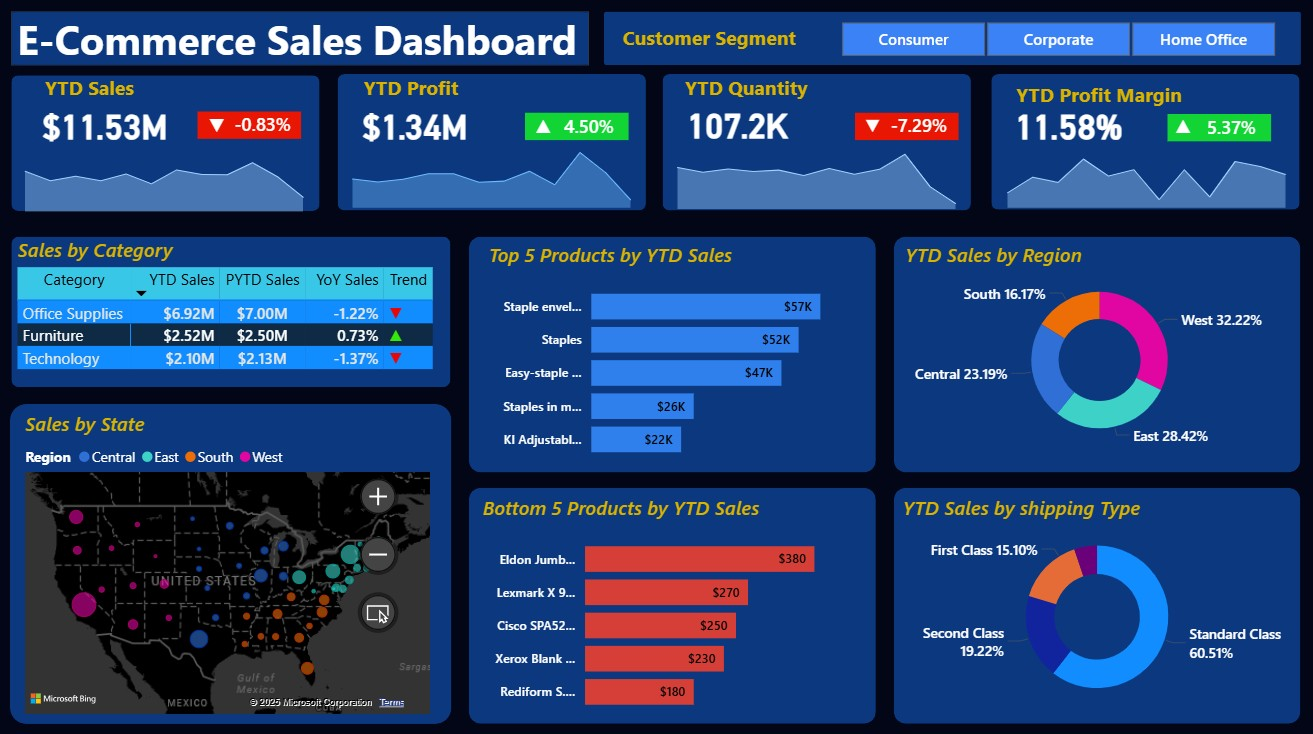

This screenshot's page, from the dashboard's own definition file:
{"tool":"powerbi","page":{"name":"Page 1","canvas":[1280,720],"ordinal":0},"visuals":[{"type":"textbox","title":"E-Commerce Sales Dashboard","box":[10.9,12.1,557.4,51.9],"z":0},{"type":"shape","box":[10.5,73.3,297.7,131],"z":1000},{"type":"card","fields":{"Values":["ecommerce_data.YTD Sales"]},"box":[26.1,87.8,149.6,67.2],"z":2000},{"type":"shape","box":[190.7,108.4,100.2,26.1],"z":3000},{"type":"areaChart","fields":{"Category":["Calendar.Month"],"Y":["Sum(ecommerce_data.sales_per_order)"]},"box":[9.6,135.8,297.8,74.1],"z":4000},{"type":"card","fields":{"Values":["ecommerce_data.YoY Sales"]},"box":[215.4,108.4,75.5,28.8],"z":5000},{"type":"card","fields":{"Values":["ecommerce_data.Sales Icon"]},"box":[193.5,108.4,32.9,31.6],"z":6000},{"type":"textbox","title":"YTD Sales","box":[38.4,72.7,108.4,28.8],"z":7000},{"type":"shape","box":[325.2,72.7,297.8,131.7],"z":8000},{"type":"card","fields":{"Values":["ecommerce_data.YTD Profit"]},"box":[325.2,87.8,149.6,67.2],"z":9000},{"type":"textbox","title":"YTD Profit","box":[346.2,72.4,108.6,27.7],"z":10000},{"type":"card","fields":{"Values":["ecommerce_data.Sales Icon"]},"box":[506.3,108.4,32.9,27.4],"z":11000},{"type":"shape","box":[506.3,109.8,100.2,26.1],"z":12000},{"type":"card","fields":{"Values":["ecommerce_data.YoY profit"]},"box":[531,111.1,75.5,27.4],"z":13000},{"type":"card","fields":{"Values":["ecommerce_data.Profit Icon"]},"box":[506.3,111.1,35.7,27.4],"z":14000},{"type":"areaChart","fields":{"Category":["Calendar.Month"],"Y":["Sum(ecommerce_data.profit_per_order)"]},"box":[868.6,155.1,22,74.1],"z":15000},{"type":"shape","box":[639.5,72.7,297.8,131.7],"z":16000},{"type":"card","fields":{"Values":["ecommerce_data.YTD Qty"]},"box":[637,86.9,149.6,66.4],"z":17000},{"type":"areaChart","fields":{"Category":["Calendar.Month"],"Y":["Sum(ecommerce_data.order_quantity)"]},"box":[639.5,134.5,297.8,74.1],"z":18000},{"type":"textbox","title":"YTD Quantity","box":[656.3,72.4,131.5,27.7],"z":19000},{"type":"shape","box":[824.7,109.8,100.2,26.1],"z":20000},{"type":"card","fields":{"Values":["ecommerce_data.YoY qantity"]},"box":[849.4,109.8,75.5,27.4],"z":21000},{"type":"card","fields":{"Values":["ecommerce_data.Quantity Icon"]},"box":[824.7,108.4,34.3,24.7],"z":22000},{"type":"areaChart","fields":{"Category":["Calendar.Month"],"Y":["Sum(ecommerce_data.profit_per_order)"]},"box":[325.2,133.1,297.8,74.1],"z":23000},{"type":"shape","box":[1137.6,119.4,100.2,27.4],"z":24000},{"type":"shape","box":[956.4,72.7,297.8,131],"z":25000},{"type":"card","fields":{"Values":["ecommerce_data.YTD profitmargin"]},"box":[956.4,87.8,149.6,67.2],"z":26000},{"type":"areaChart","fields":{"Category":["Calendar.Month"],"Y":["ecommerce_data.Profit Margin"]},"box":[957.8,133.1,297.8,74.1],"z":27000},{"type":"textbox","title":"YTD Profit Margin","box":[976,79.6,174.9,29],"z":28000},{"type":"shape","box":[1126.6,111.1,100,26.1],"z":29000},{"type":"card","fields":{"Values":["ecommerce_data.YoY Profit margin"]},"box":[1151.3,111.1,75.5,26.1],"z":30000},{"type":"card","fields":{"Values":["ecommerce_data.Profit margin Icon"]},"box":[1126.6,108.4,30.2,32.9],"z":31000},{"type":"shape","box":[11,229.2,424,145.5],"z":32000},{"type":"pivotTable","title":"Sales by Category","fields":{"Rows":["ecommerce_data.category_name"],"Values":["ecommerce_data.YTD Sales","ecommerce_data.PYTD Sales","ecommerce_data.YoY Sales","ecommerce_data.Sales Icon"]},"box":[12.1,229.2,426,154.4],"z":33000},{"type":"shape","box":[9.6,391.1,426,308.7],"z":34000},{"type":"map","title":"Sales by State","fields":{"Y":["us_state_long_lat_codes[1].latitude"],"X":["us_state_long_lat_codes[1].longitude"],"Size":["ecommerce_data.YTD Sales"],"Series":["ecommerce_data.customer_region"]},"box":[19.2,396.6,400.7,297.8],"z":35000},{"type":"shape","box":[452.8,229.2,393,227.8],"z":36000},{"type":"barChart","title":"Top 5 Products by YTD Sales","fields":{"Category":["ecommerce_data.product_name"],"Y":["ecommerce_data.YTD Sales"]},"box":[466.6,234.6,362.3,222.3],"z":37000},{"type":"shape","box":[452.8,472,393,227.8],"z":38000},{"type":"barChart","title":"Bottom 5 Products by YTD Sales","fields":{"Category":["ecommerce_data.product_name"],"Y":["ecommerce_data.YTD Sales"]},"box":[461.1,477.5,362.3,222.3],"z":39000},{"type":"shape","box":[863.1,472,392.5,227.8],"z":40000},{"type":"shape","box":[863.1,229.2,392.5,227.8],"z":41000},{"type":"donutChart","title":"YTD Sales by Region","fields":{"Category":["ecommerce_data.customer_region"],"Y":["ecommerce_data.YTD Sales"]},"box":[868.6,234.6,385.6,204.5],"z":42000},{"type":"donutChart","title":"YTD Sales by shipping Type","fields":{"Y":["ecommerce_data.YTD Sales"],"Category":["ecommerce_data.shipping_type"]},"box":[865.9,477.5,385.6,212.7],"z":43000},{"type":"shape","box":[582.7,12.1,673.2,51.9],"z":44000},{"type":"slicer","fields":{"Values":["ecommerce_data.customer_segment"]},"box":[786.6,15.7,468.1,45.8],"z":45000},{"type":"textbox","title":"Customer Segment","box":[596,24.1,203.9,29],"z":46000}]}

Visuals, with their boxes in screenshot pixels (x1, y1, x2, y2), scaled from the page's 1280x720 canvas onto the 1313x734 screenshot:
"E-Commerce Sales Dashboard" textbox: [11,12,583,65]
shape: [11,75,316,208]
card - ecommerce_data.YTD Sales: [27,90,180,158]
shape: [196,111,298,137]
areaChart - Calendar.Month x Sum(ecommerce_data.sales_per_order): [10,138,315,214]
card - ecommerce_data.YoY Sales: [221,111,298,140]
card - ecommerce_data.Sales Icon: [198,111,232,143]
"YTD Sales" textbox: [39,74,151,103]
shape: [334,74,639,208]
card - ecommerce_data.YTD Profit: [334,90,487,158]
"YTD Profit" textbox: [355,74,467,102]
card - ecommerce_data.Sales Icon: [519,111,553,138]
shape: [519,112,622,139]
card - ecommerce_data.YoY profit: [545,113,622,141]
card - ecommerce_data.Profit Icon: [519,113,556,141]
areaChart - Calendar.Month x Sum(ecommerce_data.profit_per_order): [891,158,914,234]
shape: [656,74,961,208]
card - ecommerce_data.YTD Qty: [653,89,807,156]
areaChart - Calendar.Month x Sum(ecommerce_data.order_quantity): [656,137,961,213]
"YTD Quantity" textbox: [673,74,808,102]
shape: [846,112,949,139]
card - ecommerce_data.YoY qantity: [871,112,949,140]
card - ecommerce_data.Quantity Icon: [846,111,881,136]
areaChart - Calendar.Month x Sum(ecommerce_data.profit_per_order): [334,136,639,211]
shape: [1167,122,1270,150]
shape: [981,74,1287,208]
card - ecommerce_data.YTD profitmargin: [981,90,1135,158]
areaChart - Calendar.Month x ecommerce_data.Profit Margin: [982,136,1288,211]
"YTD Profit Margin" textbox: [1001,81,1181,111]
shape: [1156,113,1258,140]
card - ecommerce_data.YoY Profit margin: [1181,113,1258,140]
card - ecommerce_data.Profit margin Icon: [1156,111,1187,144]
shape: [11,234,446,382]
"Sales by Category" pivotTable: [12,234,449,391]
shape: [10,399,447,713]
"Sales by State" map: [20,404,431,708]
shape: [464,234,868,466]
"Top 5 Products by YTD Sales" barChart: [479,239,850,466]
shape: [464,481,868,713]
"Bottom 5 Products by YTD Sales" barChart: [473,487,845,713]
shape: [885,481,1288,713]
shape: [885,234,1288,466]
"YTD Sales by Region" donutChart: [891,239,1287,448]
"YTD Sales by shipping Type" donutChart: [888,487,1284,704]
shape: [598,12,1288,65]
slicer - ecommerce_data.customer_segment: [807,16,1287,63]
"Customer Segment" textbox: [611,25,821,54]
